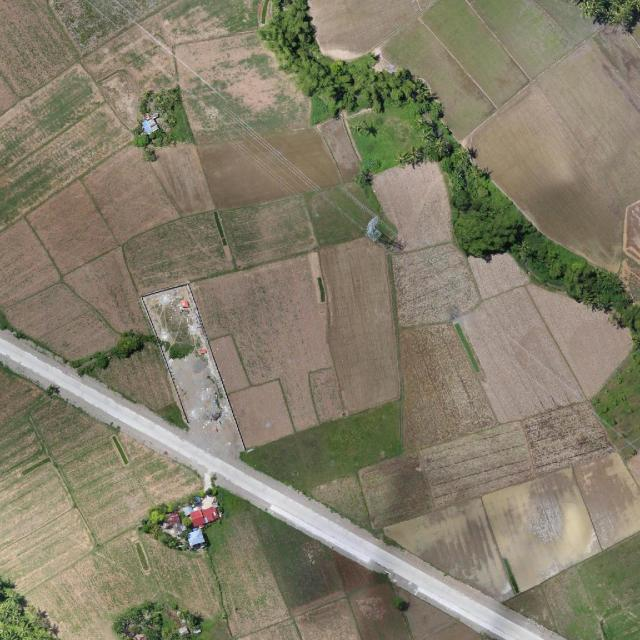agricultural_land: (0, 577, 59, 639)
dryland: (139, 280, 245, 464)
greenland: (0, 577, 60, 639)
